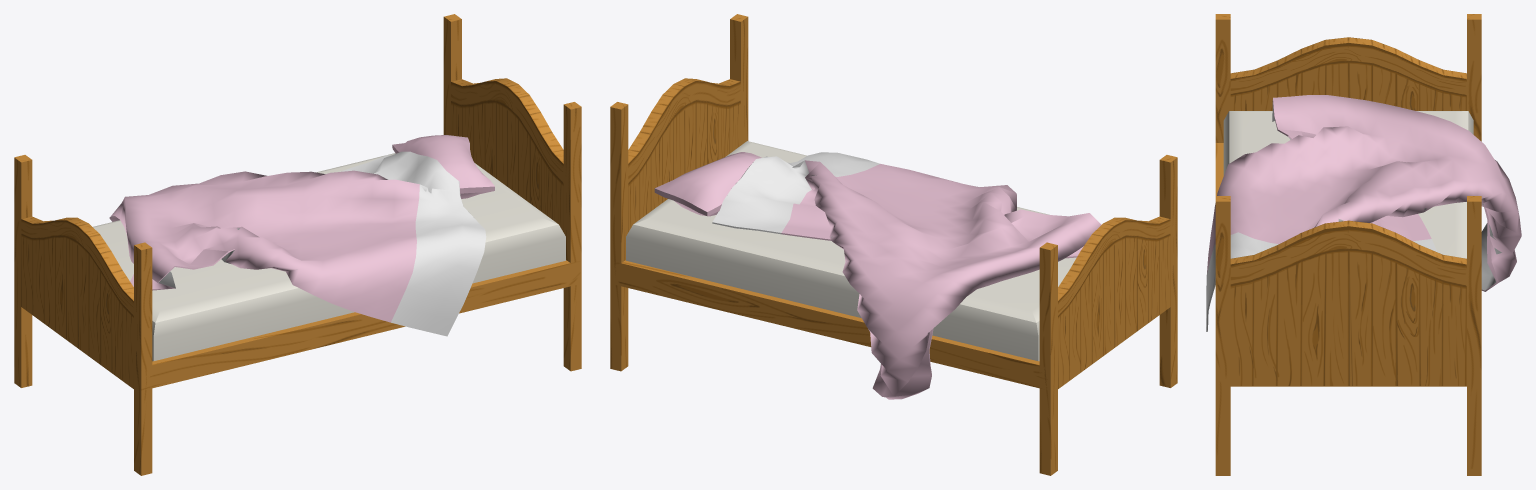
The model's file is furniture_bed_girl_D.fbx.
3 renders of one model, left to right at view 1: azimuth 30°, elevation 25°; view 2: azimuth 150°, elevation 25°; view 3: azimuth 270°, elevation 25°, orthographic. The views are drawn at different scales.
Parts seen in each view (by area): view 1: singleBed_bottom; view 2: singleBed_bottom; view 3: singleBed_bottom.
Boxes of the visible parts, box(x1,y1,x2,y2) form: singleBed_bottom: box(14, 14, 581, 475); singleBed_bottom: box(610, 14, 1177, 475); singleBed_bottom: box(1206, 14, 1521, 475).
Size of the model in its own units: 23.74 by 13.48 by 14.06.
Materials: 6 (2 with a texture image).
